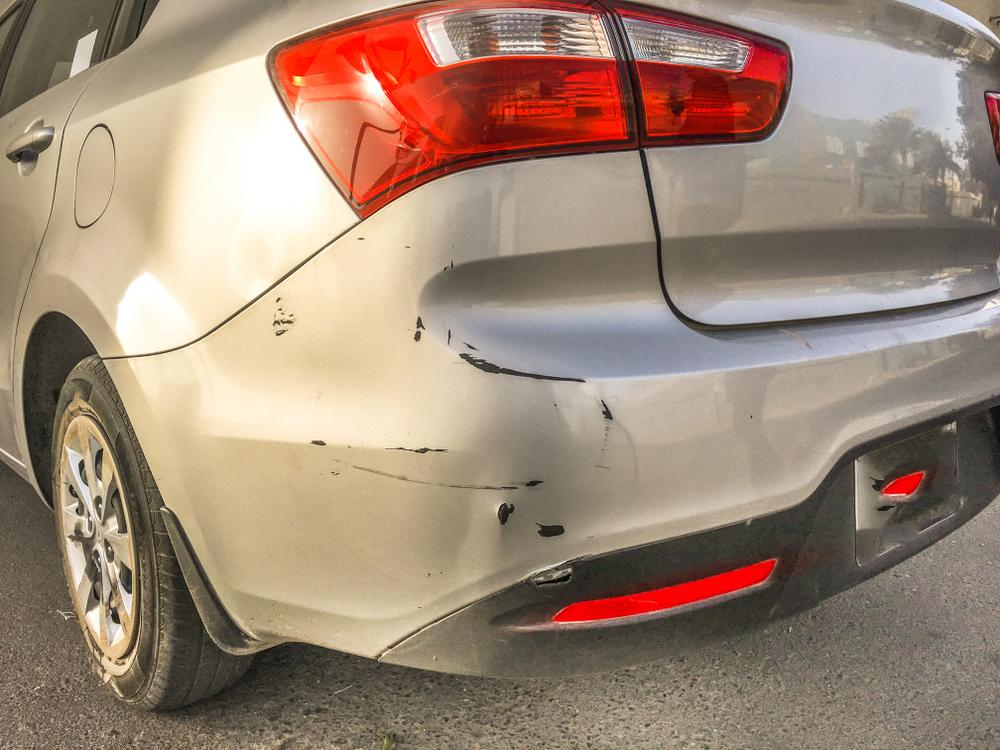dent: (238, 231, 278, 289)
scratch: (313, 437, 567, 546), (403, 314, 620, 440)
